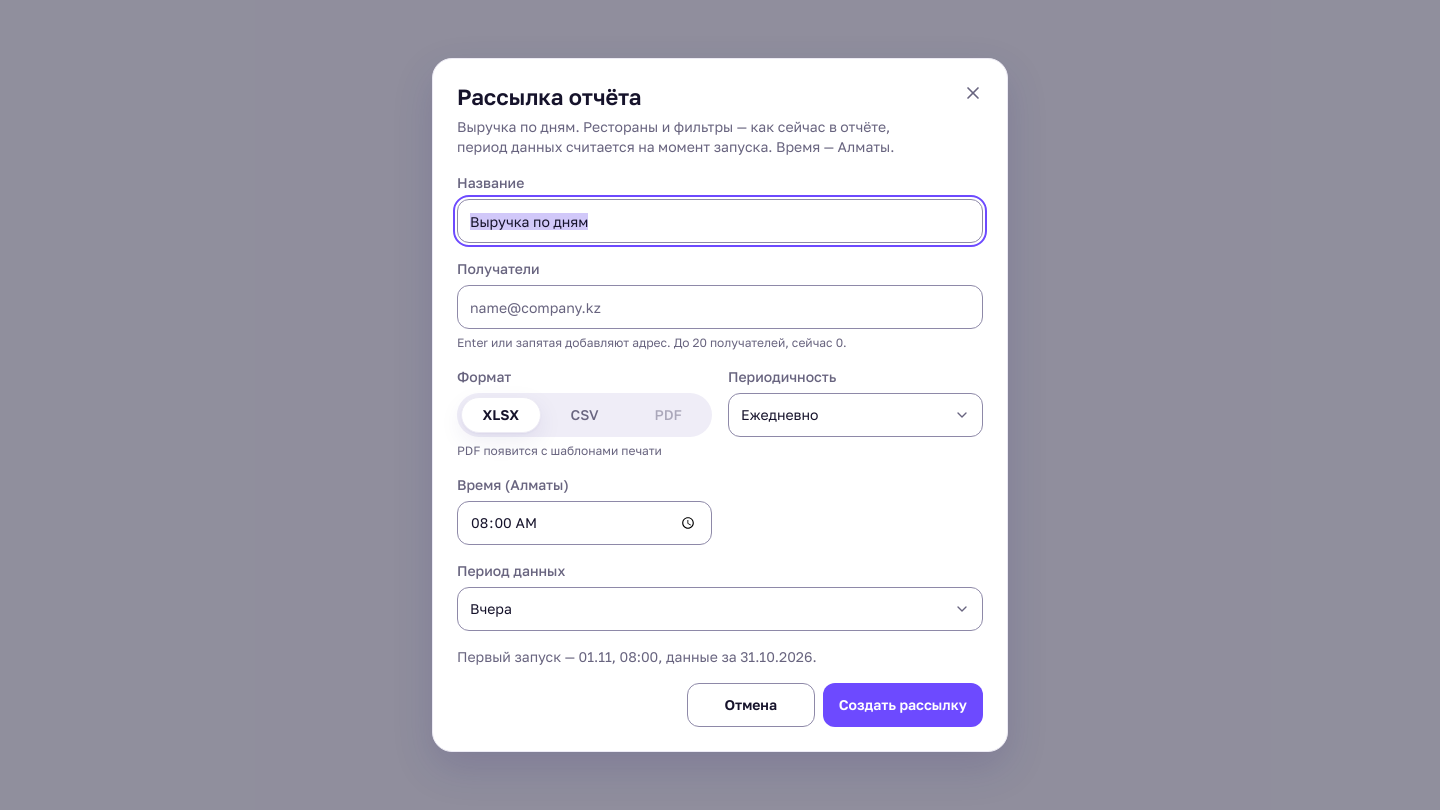
Test: Рассылка отчёта (dialog) › shows the server refusal and keeps the dialog open
Type "boss@sandyq.test" into the field labelled "Получатели".
click(720, 307); type("boss@sandyq.test")  # box [466, 293, 974, 321]
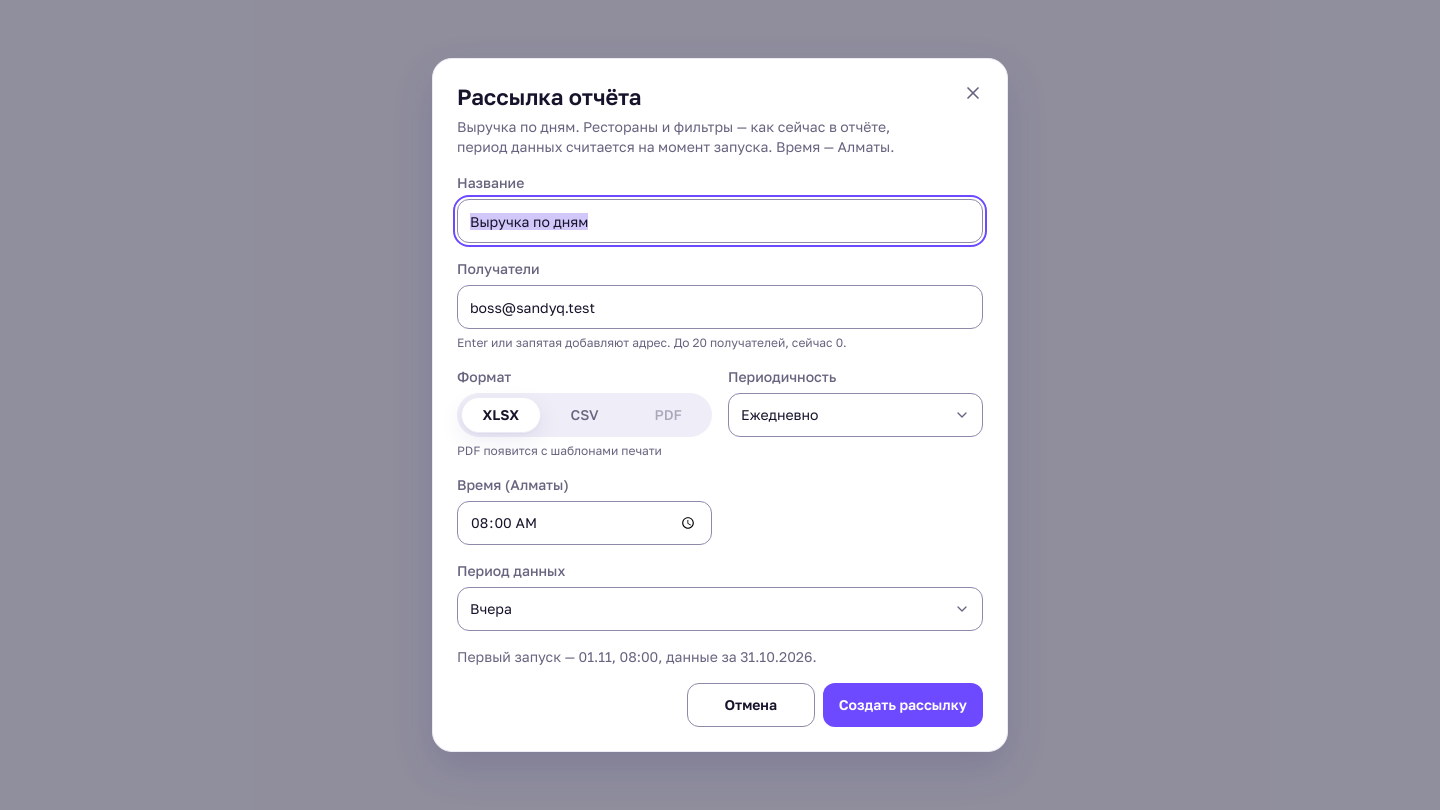
Press Enter in the field labelled "Получатели", box [466, 293, 974, 321]
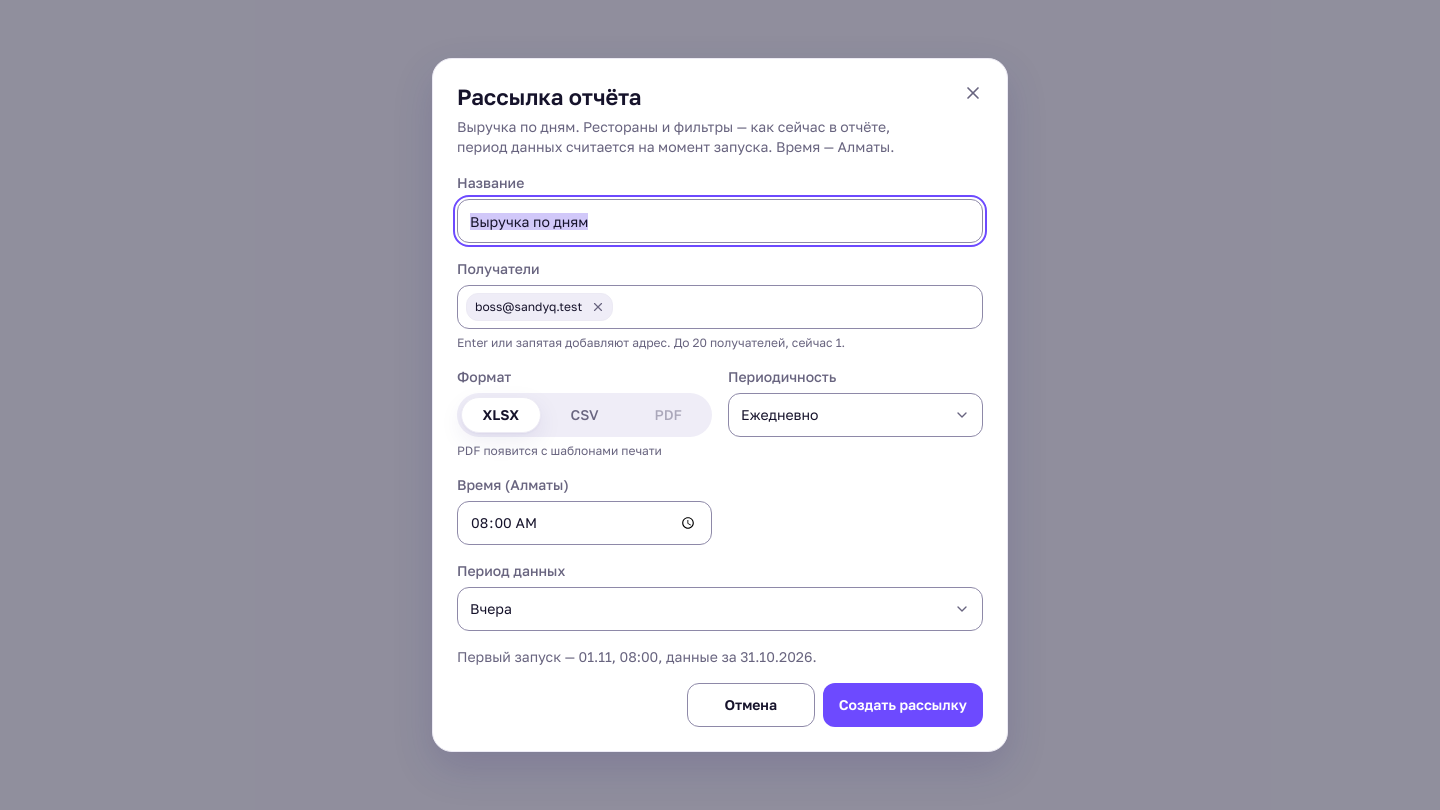
Click the button "Создать рассылку".
click(903, 705)  # box [823, 683, 983, 727]
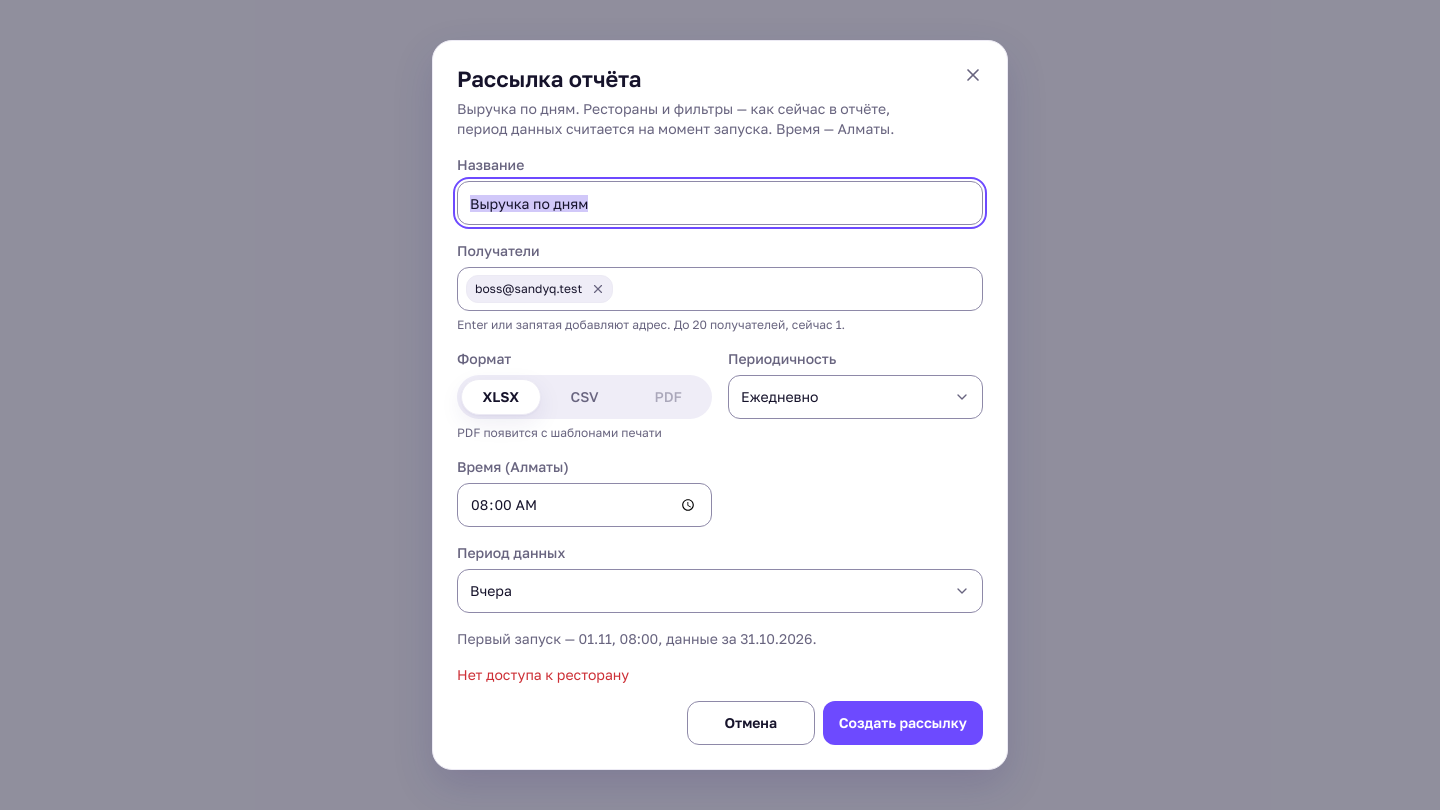
Expected: the text "Нет доступа к ресторану" is shown, [457, 666, 629, 683]
